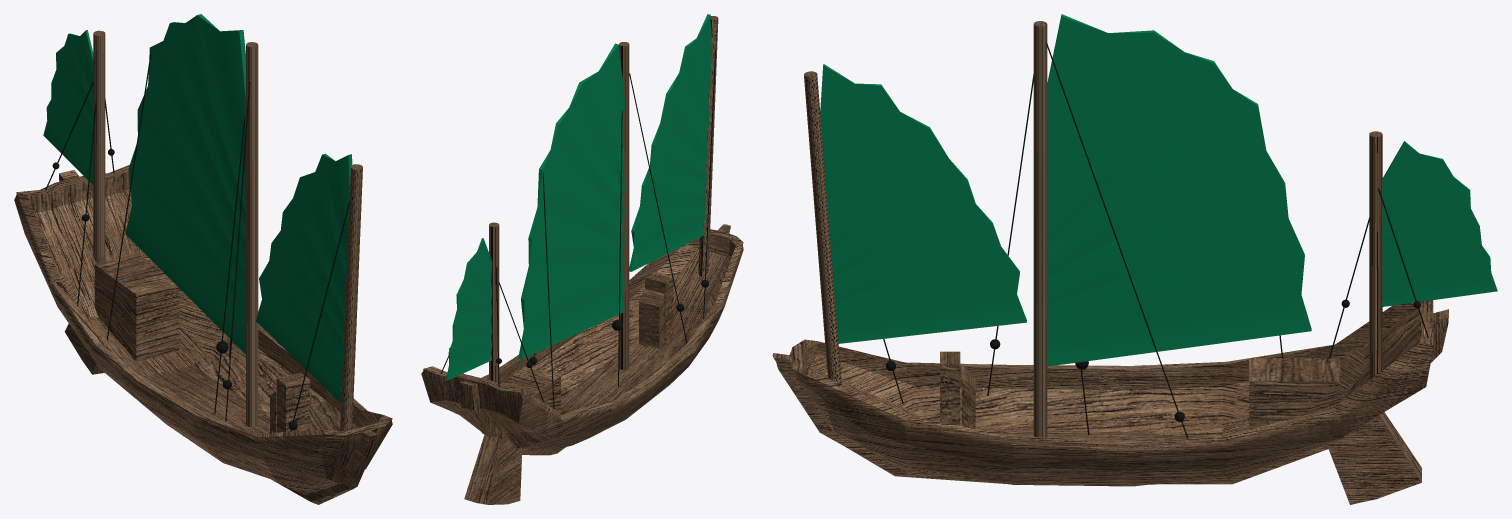
File: BoatForSketchFab.obj
3 views of the same model, side by side, from view 1: azimuth 30°, elevation 25°; view 2: azimuth 150°, elevation 25°; view 3: azimuth 270°, elevation 25° (orthographic). The views are drawn at different scales.
Visible parts, largest first — view 1: pCube1, pPlane1, pPlane2, pCube2, pPlane3, pCylinder2, pCylinder3, pCylinder1, pCube3, pCylinder7, pCylinder5, pCylinder6 (+1 smaller); view 2: pCube1, pPlane1, pPlane2, pPlane3, pCylinder2, pCylinder3, pCylinder1, pCube4, pCube2, pCube3, pCylinder7, pCylinder6 (+2 smaller); view 3: pPlane1, pCube1, pPlane2, pPlane3, pCylinder2, pCube2, pCylinder3, pCylinder1, pCube3, pCube4, pCylinder4.
Boxes of the visible parts, bbox=[...] form: pCube1: bbox=[14, 164, 392, 504]; pPlane1: bbox=[125, 14, 245, 354]; pPlane2: bbox=[256, 153, 352, 402]; pCube2: bbox=[94, 254, 179, 361]; pPlane3: bbox=[43, 30, 93, 184]; pCylinder2: bbox=[246, 42, 258, 427]; pCylinder3: bbox=[340, 164, 362, 431]; pCylinder1: bbox=[93, 30, 105, 263]; pCube3: bbox=[277, 372, 309, 432]; pCylinder7: bbox=[225, 82, 250, 421]; pCylinder5: bbox=[106, 51, 151, 340]; pCylinder6: bbox=[214, 116, 244, 414]; pCube1: bbox=[421, 224, 743, 504]; pPlane1: bbox=[518, 43, 624, 359]; pPlane2: bbox=[629, 14, 711, 271]; pPlane3: bbox=[446, 238, 492, 380]; pCylinder2: bbox=[619, 42, 629, 370]; pCylinder3: bbox=[698, 16, 718, 276]; pCylinder1: bbox=[489, 222, 499, 383]; pCube4: bbox=[639, 289, 664, 348]; pCube2: bbox=[500, 366, 560, 412]; pCube3: bbox=[645, 272, 673, 343]; pCylinder7: bbox=[629, 73, 687, 343]; pCylinder6: bbox=[618, 111, 622, 386]; pPlane1: bbox=[1047, 14, 1311, 366]; pCube1: bbox=[772, 300, 1448, 504]; pPlane2: bbox=[820, 64, 1026, 343]; pPlane3: bbox=[1382, 141, 1497, 306]; pCylinder2: bbox=[1033, 21, 1047, 437]; pCube2: bbox=[1249, 358, 1340, 429]; pCylinder3: bbox=[804, 71, 841, 384]; pCylinder1: bbox=[1369, 131, 1382, 379]; pCube3: bbox=[940, 351, 960, 425]; pCube4: bbox=[961, 365, 975, 428]; pCylinder4: bbox=[1046, 41, 1188, 438].
Bounding box in the file's own units: 0.7595 × 2.04 × 2.78.
3 materials, 1 textured.
